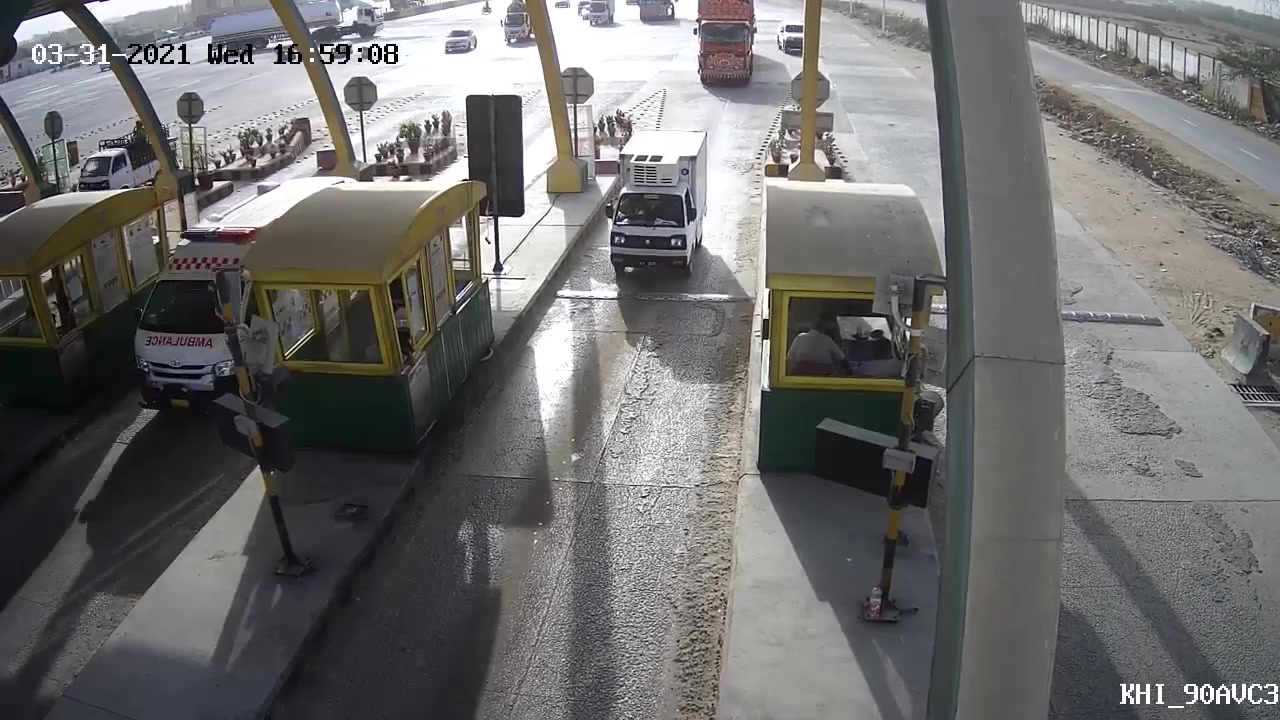F1: (594, 122, 717, 278)
F5: (683, 1, 768, 96)
